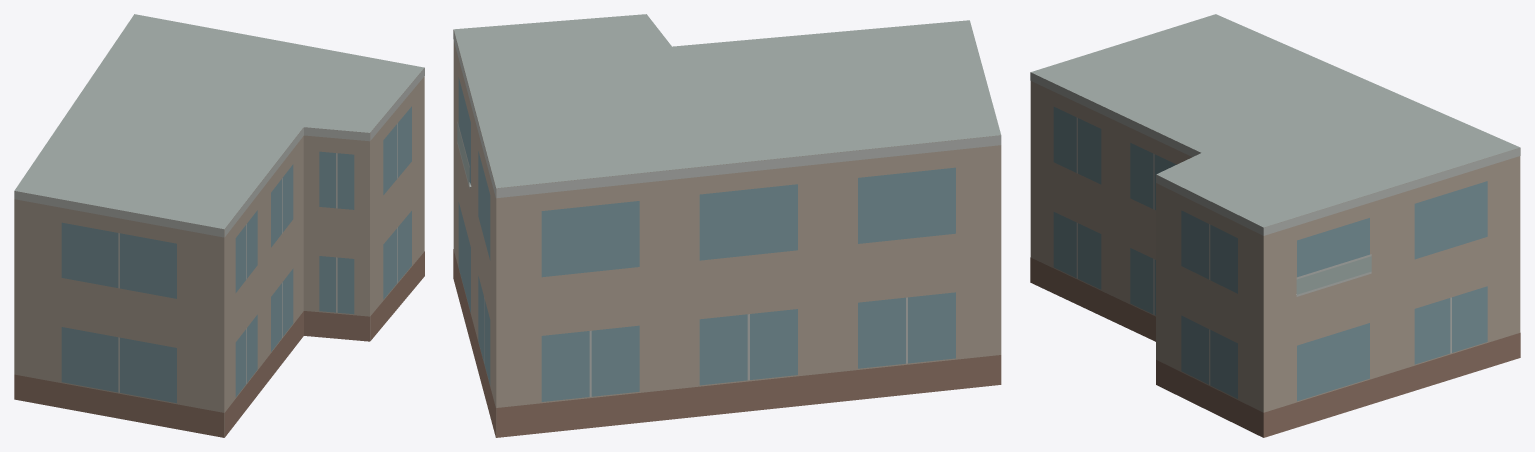
File: survey-upis-32487909.glb
The picture shows the model from 3 angles, left to right: view 1: azimuth 30°, elevation 25°; view 2: azimuth 150°, elevation 25°; view 3: azimuth 270°, elevation 25°; orthographic projection. The views are drawn at different scales.
Visible parts, largest first — view 1: survey-upis-32487909.tmp; view 2: survey-upis-32487909.tmp; view 3: survey-upis-32487909.tmp.
Boxes of the visible parts, left/top/right/bottom form: survey-upis-32487909.tmp: left=14, top=14, right=424, bottom=437; survey-upis-32487909.tmp: left=453, top=14, right=1001, bottom=437; survey-upis-32487909.tmp: left=1030, top=14, right=1520, bottom=437.
Bounding box in the file's own units: 13.29 × 6.1 × 12.89.
